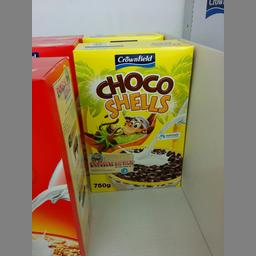cereal: (72, 40, 194, 193)
